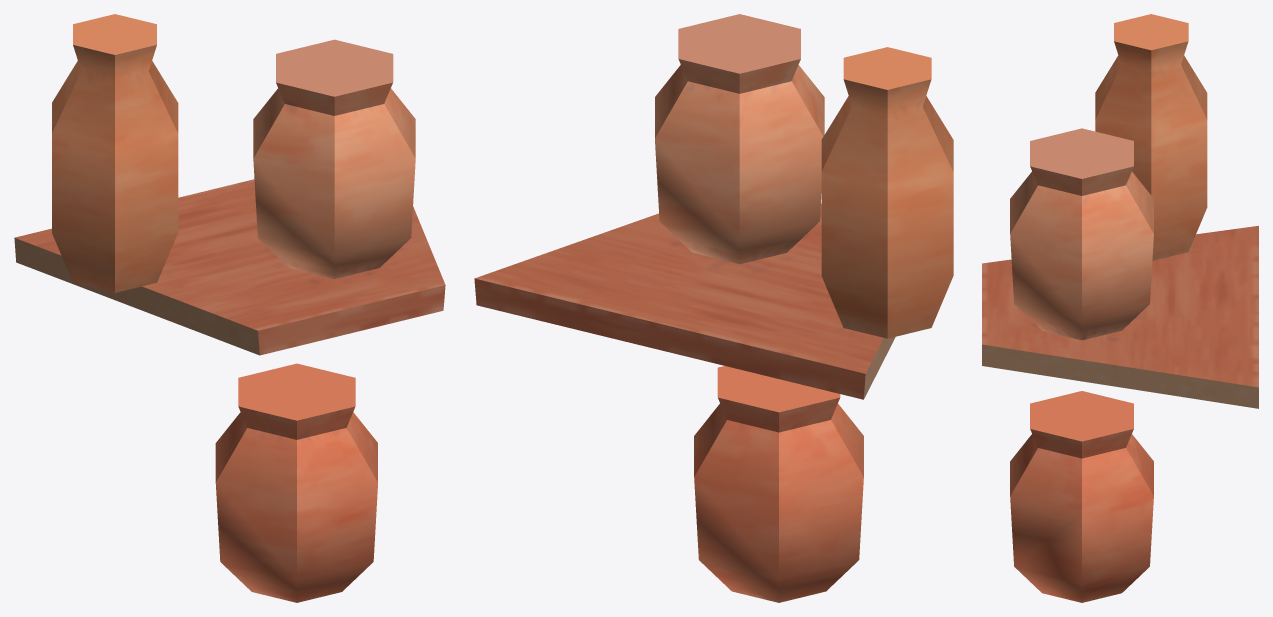
The model's file is pot_rack_s02.fbx.
The picture shows the model from 3 angles, left to right: view 1: azimuth 30°, elevation 25°; view 2: azimuth 150°, elevation 25°; view 3: azimuth 270°, elevation 25°; orthographic projection. The views are drawn at different scales.
Visible parts, largest first — view 1: pot_rack_s02; view 2: pot_rack_s02; view 3: pot_rack_s02.
Part boxes in pixels (x1,y1,x2,y2): pot_rack_s02: [14, 14, 445, 602]; pot_rack_s02: [474, 14, 953, 602]; pot_rack_s02: [982, 14, 1258, 602].
Size of the model in its own units: 2.64 by 3.51 by 1.8.
